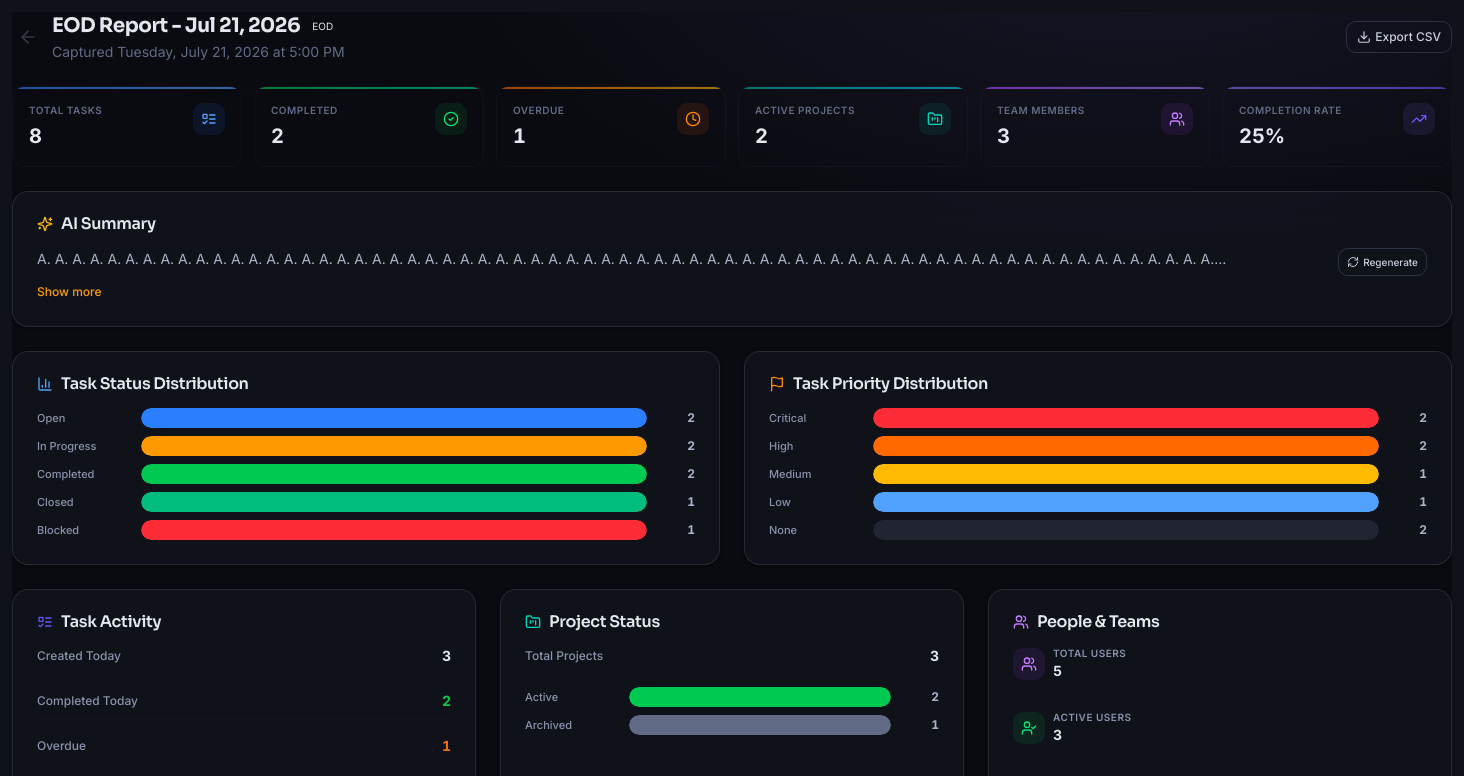
Test case: SnapshotDetailPage › toggles long AI summary show more/less
The image size is (1464, 776).
Expected: the heading "EOD Report - Jul 21, 2026" is shown, [52,12,300,40]
# Click to expand
What coordinates should you click on to do the following:
click the button "Show more"
I would click on:
 (69, 292)
Its box is [37,284,102,300].
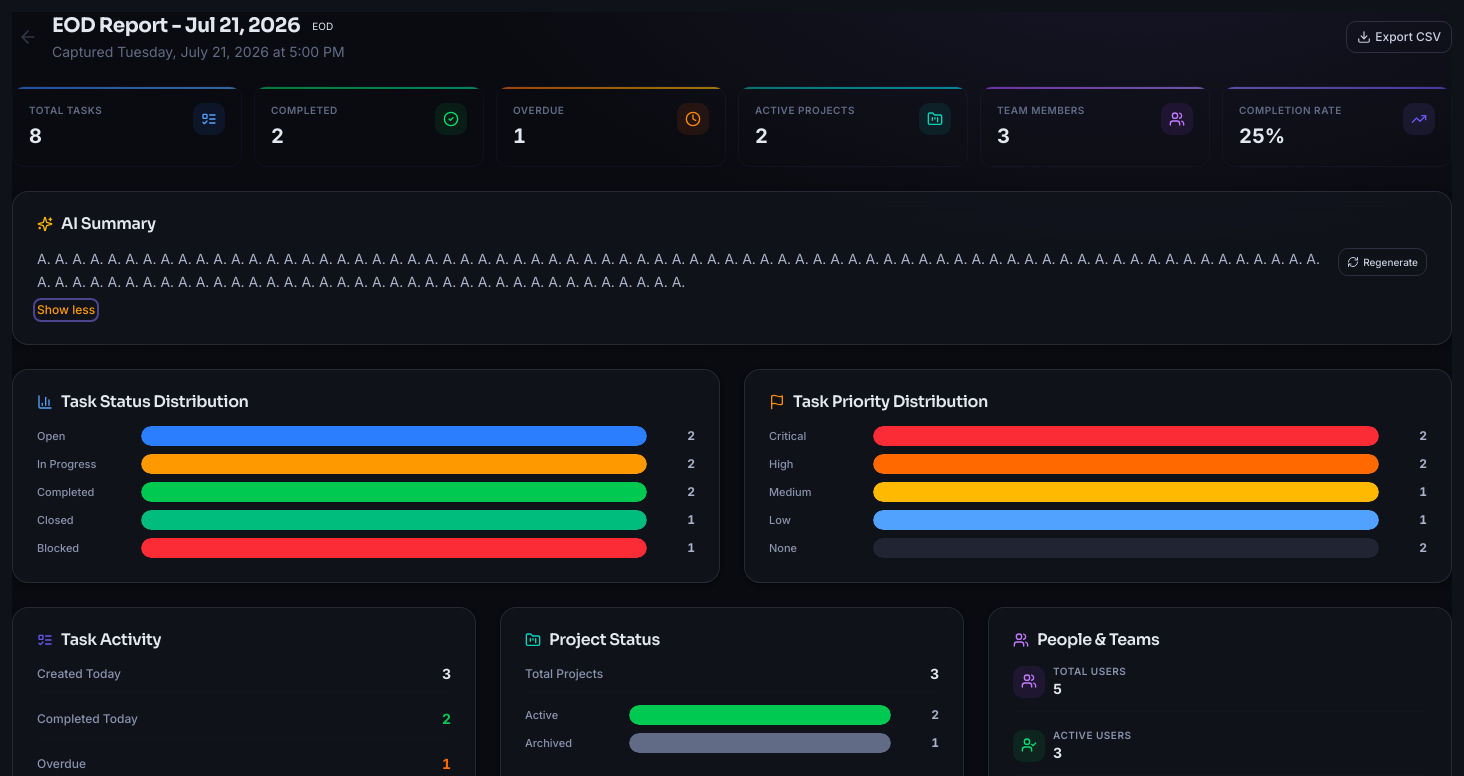
Now the button "Show less" is shown
# Click to collapse
What coordinates should you click on to do the following:
click the button "Show less"
I would click on:
 (66, 310)
Its box is [37,302,95,318].
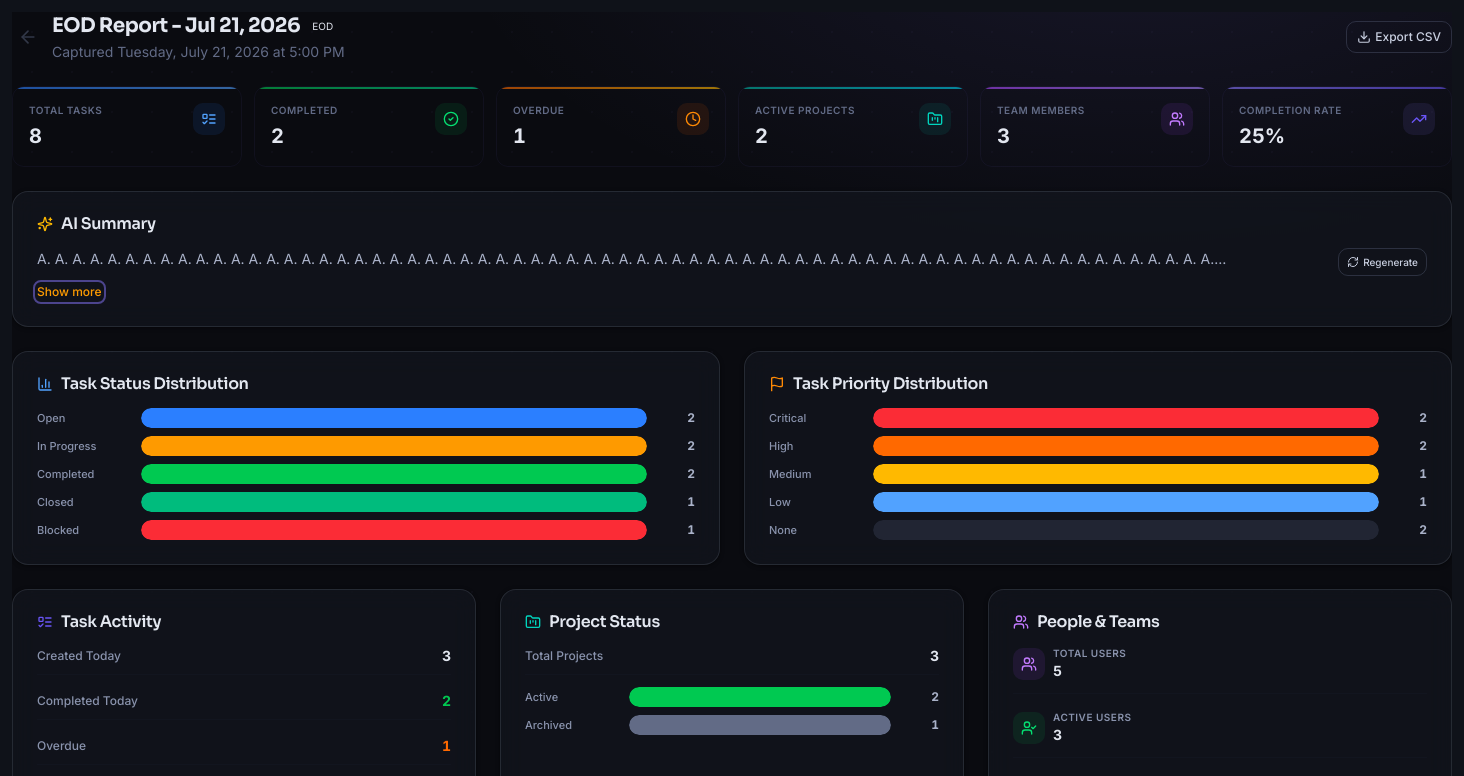
Now the button "Show more" is shown, box [37,284,102,300]
